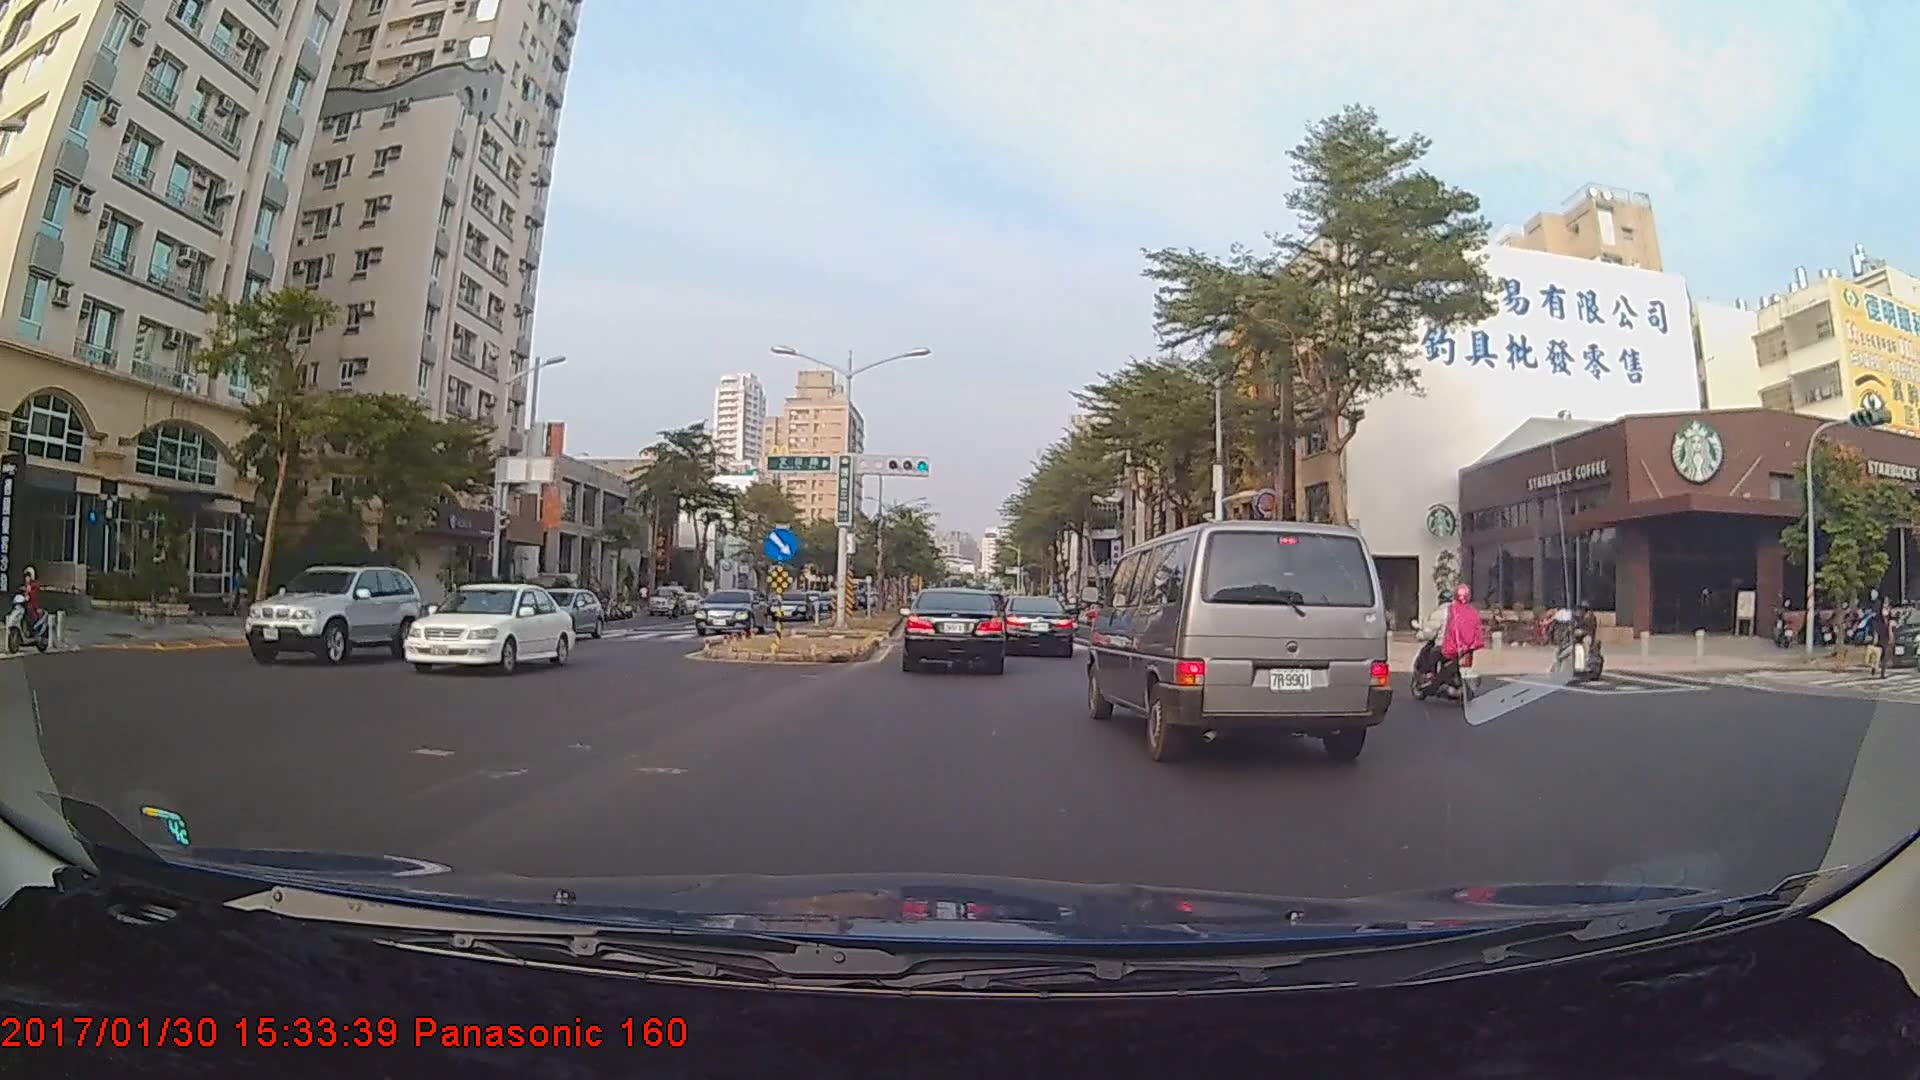pedestrian: (1871, 595, 1896, 681)
rider: (1410, 568, 1492, 694), (1553, 588, 1618, 680), (5, 569, 55, 659)
vehicle: (1088, 513, 1388, 765), (245, 563, 429, 666), (402, 580, 578, 673), (901, 588, 1007, 674), (509, 586, 602, 640), (999, 594, 1075, 657), (691, 585, 766, 634), (767, 591, 814, 621)
